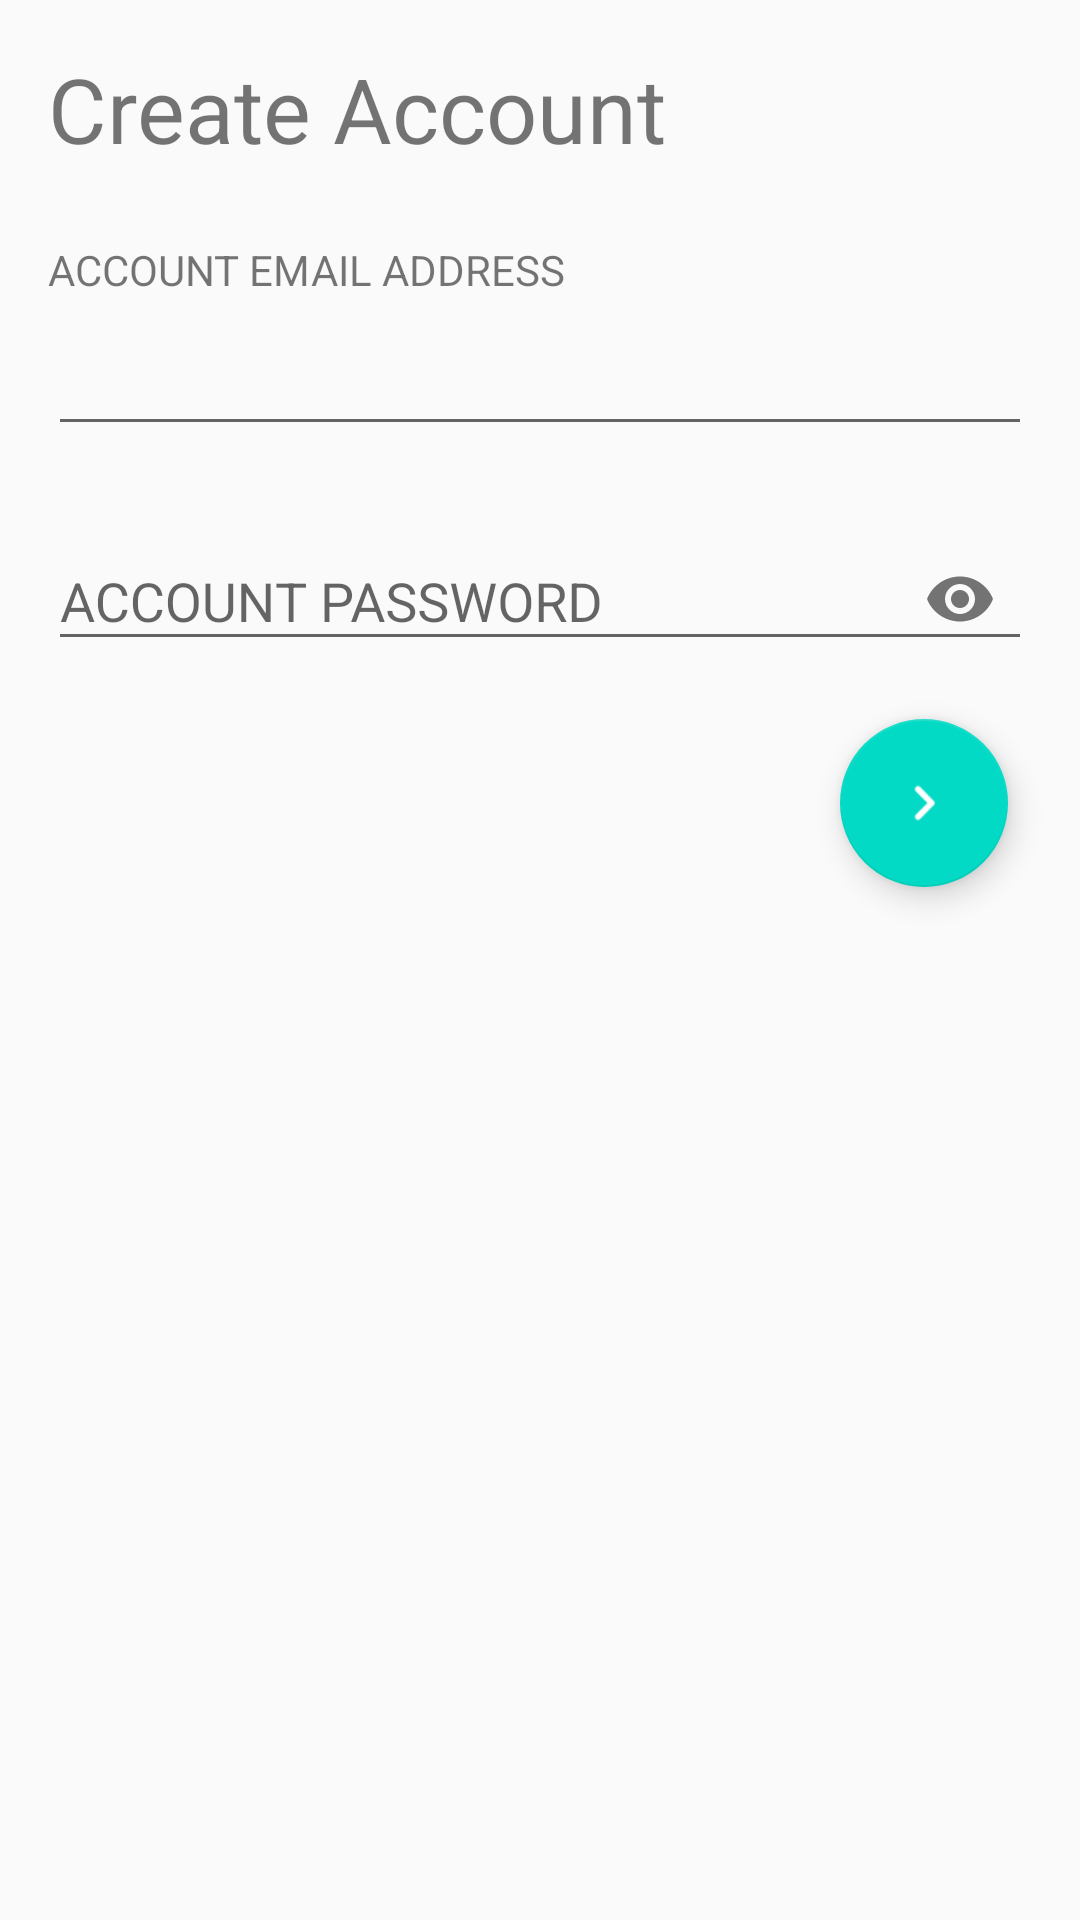

Named icons in this screenshot (1080 × 1920) and their bounding boxes, (x1, y1, x2, y2):
keyboard arrow right: (840, 719, 1008, 887)
